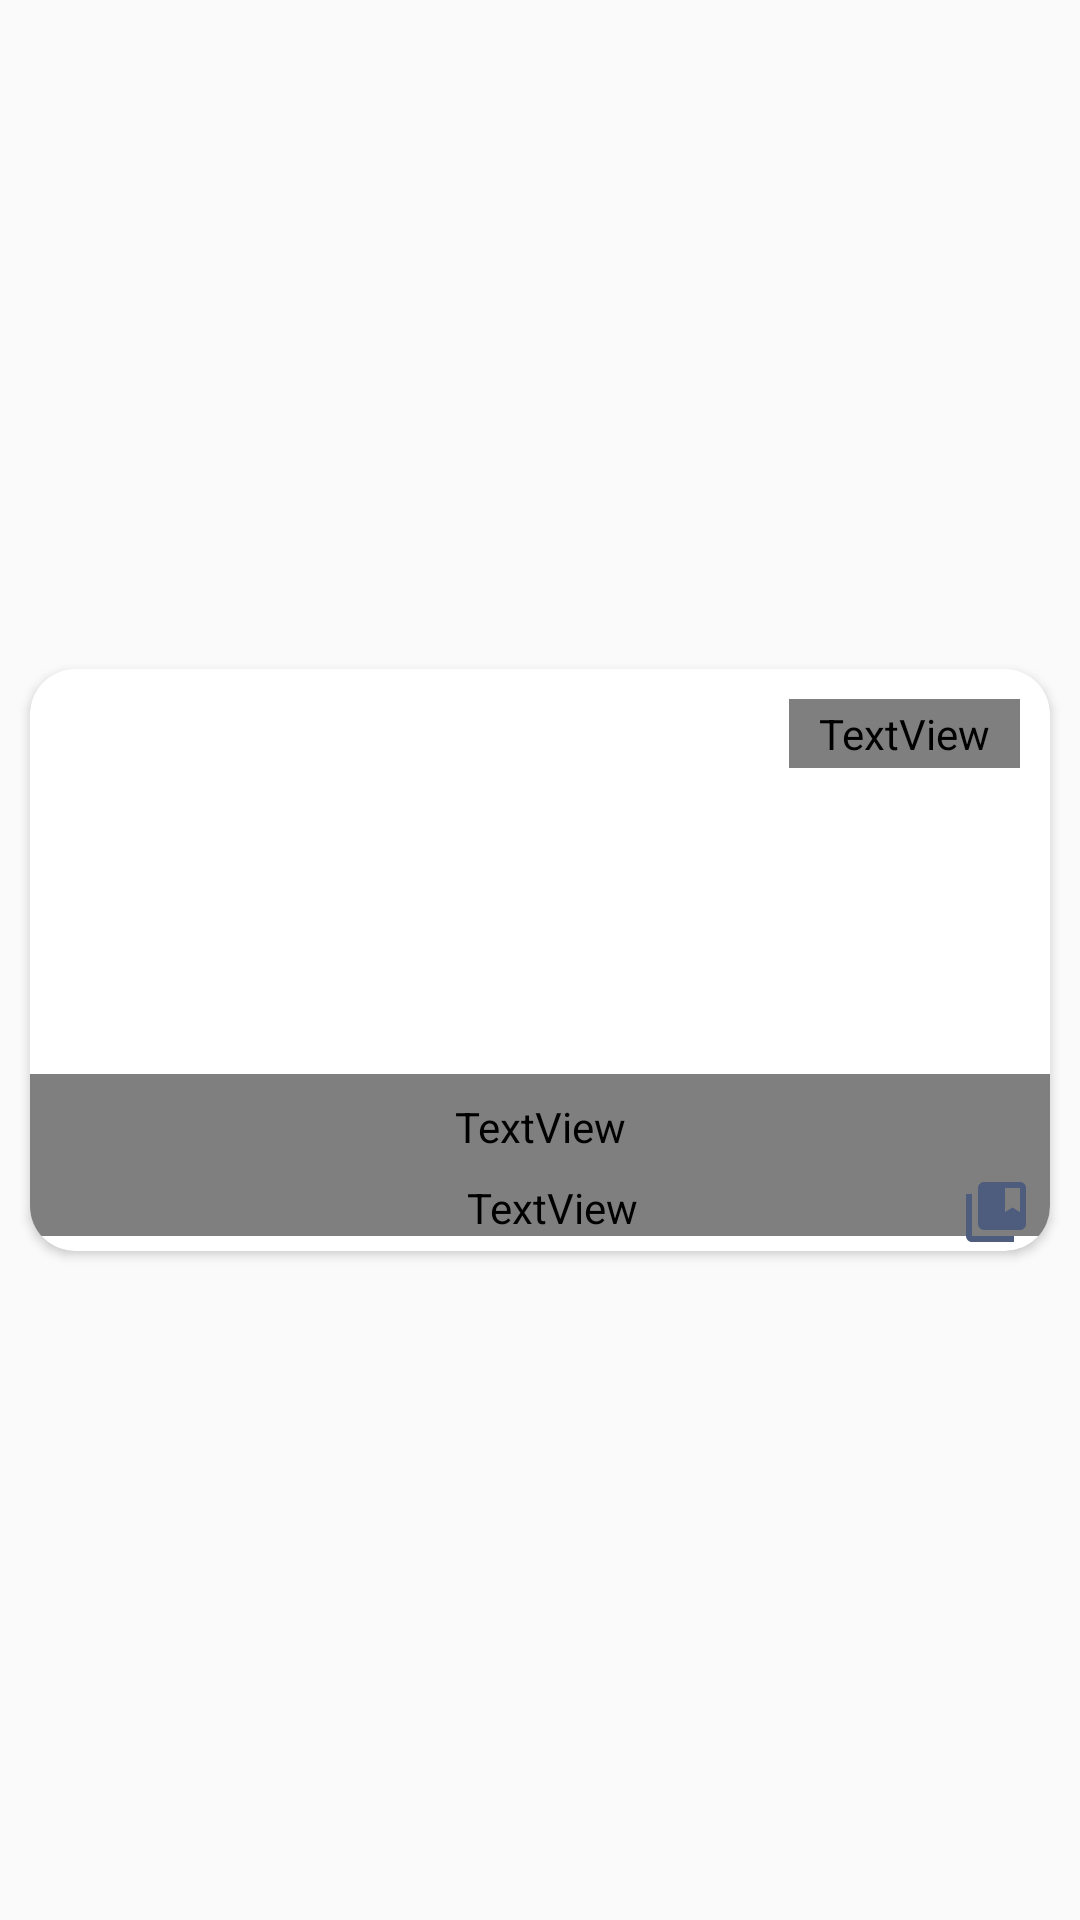

Locate icon controls on the screen. Image size 1080 x 1920, boxes as (x1, y1, x2, y2).
collections bookmark: (978, 1182, 1026, 1230)
